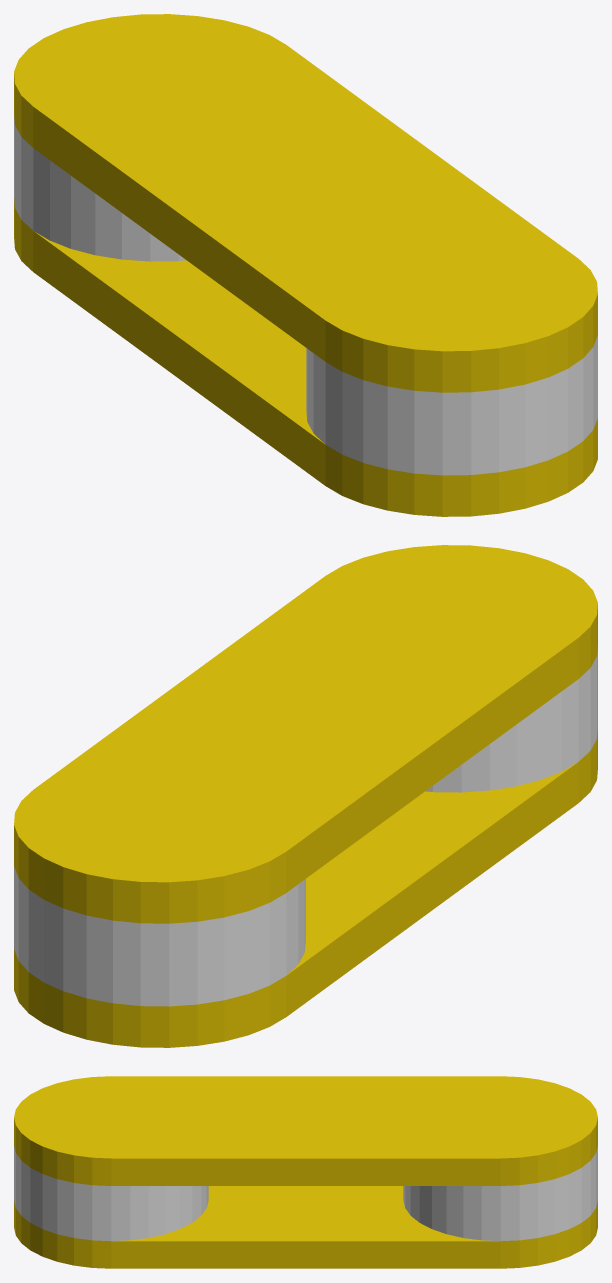
The model's file is linkplate.glb.
3 views of the same model, one above another, from view 1: azimuth 30°, elevation 25°; view 2: azimuth 150°, elevation 25°; view 3: azimuth 270°, elevation 25° (orthographic). The views are drawn at different scales.
Visible parts, largest first — view 1: Cylinder.004; view 2: Cylinder.004; view 3: Cylinder.004.
Boxes of the visible parts, left/top/right/bottom form: Cylinder.004: left=14, top=14, right=597, bottom=516; Cylinder.004: left=14, top=545, right=597, bottom=1047; Cylinder.004: left=14, top=1076, right=597, bottom=1268.
Size of the model in its own units: 0.8 by 0.5 by 2.4.
